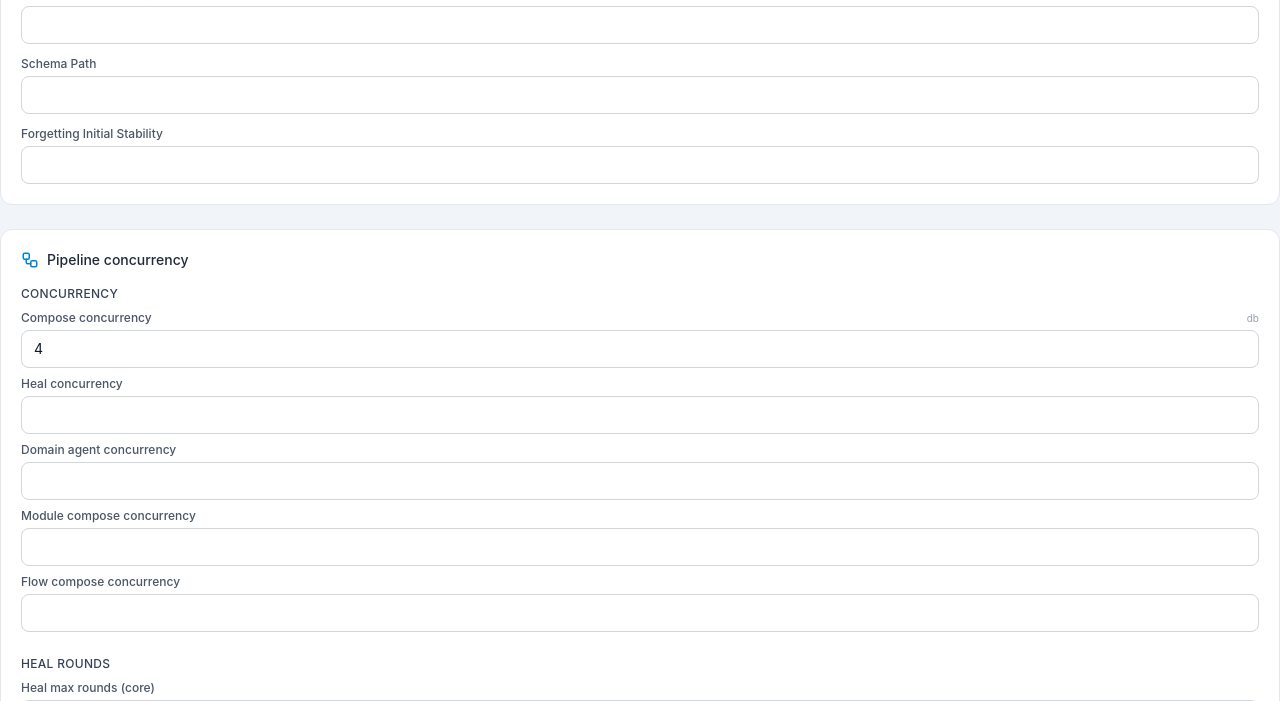
SystemConfigPanel › rejects empty number fields on save
The width and height of the screenshot is (1280, 701).
(page scrolled)
Check: the heading "Pipeline concurrency" is shown, box top-left (47, 250), bottom-right (188, 270)
Clear the number field labelled "Compose concurrency". click: (640, 349)
box: top-left (21, 330), bottom-right (1259, 368)
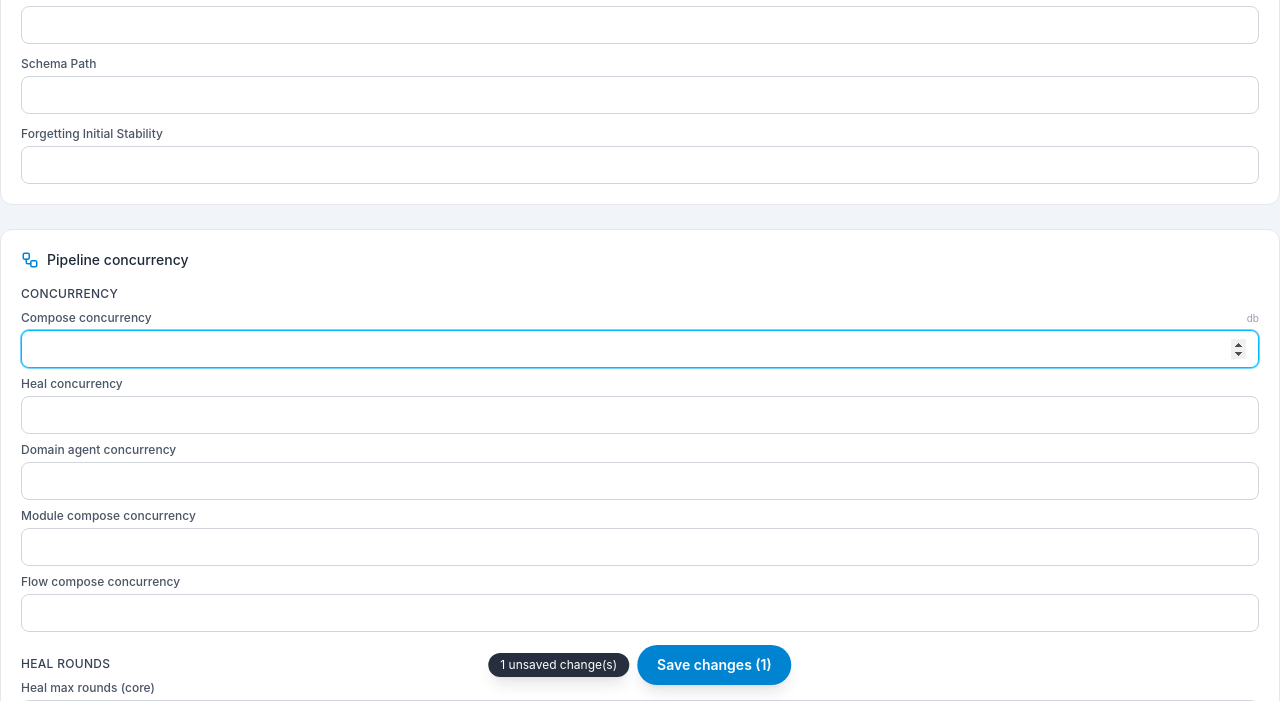
Click the button "Save changes (1)". click: (714, 665)
box: top-left (637, 645), bottom-right (792, 685)
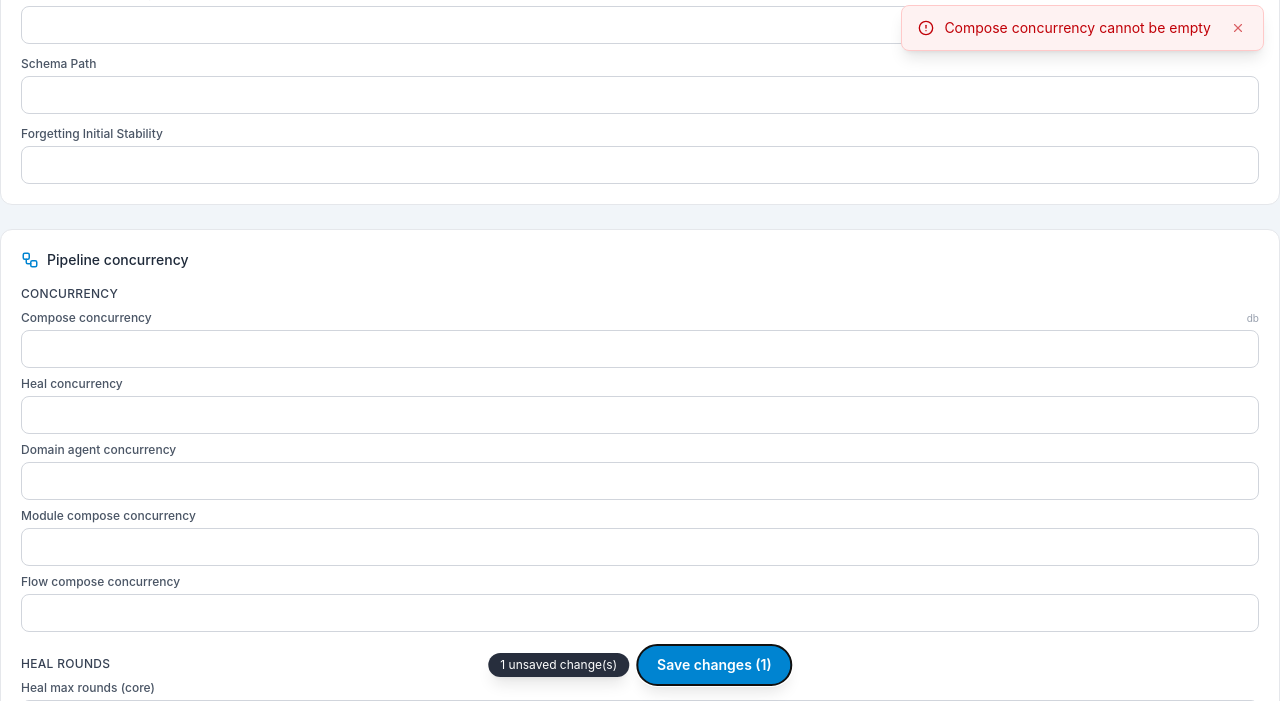
Check: the text "Compose concurrency cannot be empty" is shown, box top-left (944, 18), bottom-right (1211, 38)
